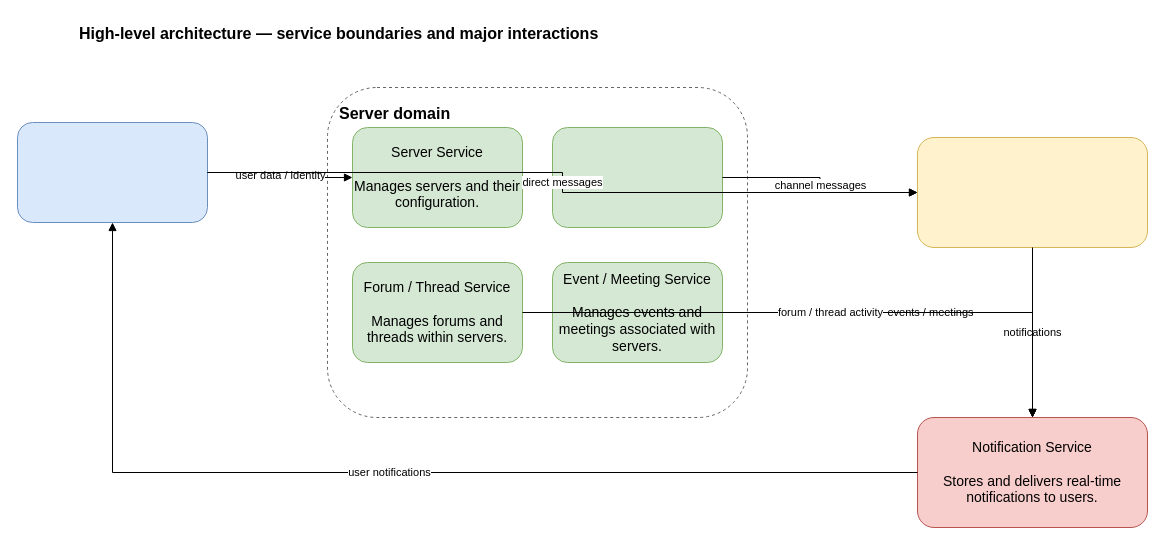
Some shapes in this 1165 by 545 pixel diagram are drawn without their labels. The shapes that lost their labels are listed below. From the top down, each one's centre as x and y in pixels, then its label:
At point 112,172: "User Service Manages user accounts.".
At point 637,177: "Channel Service Manages channels and their configuration within servers.".
At point 1032,192: "Messaging Service Stores and delivers real-time messages to users and channels.".
